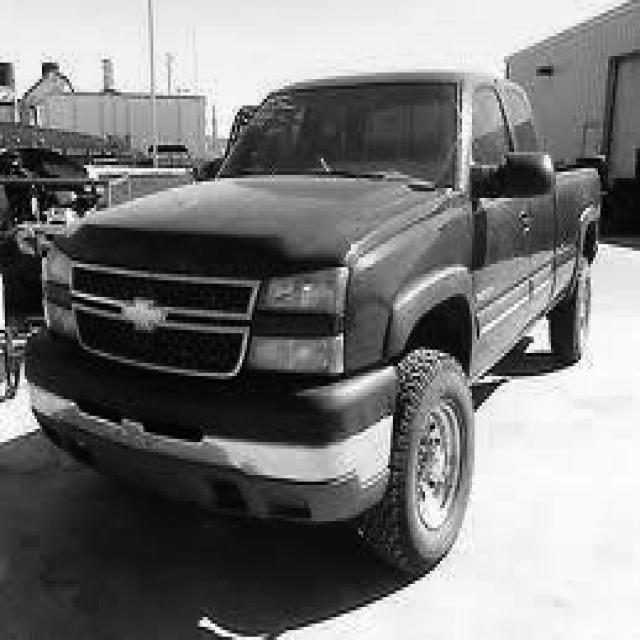car: (22, 66, 603, 577)
